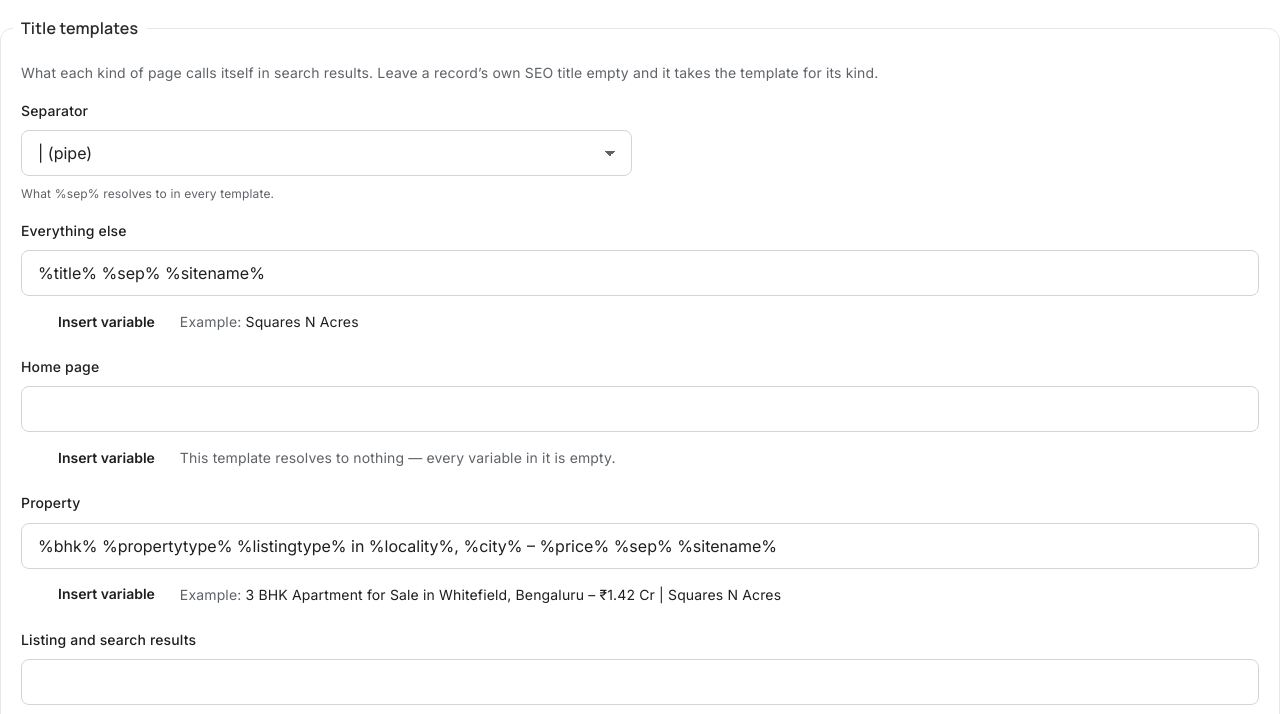
it: the property title template › removes an unresolved variable and the punctuation it leaves behind (§9.5)
Expected: the text "3 BHK Apartment for Sale in Whitefield" is shown, [246, 586, 781, 602]
Replace the text in the field labelled "Property" with "%bhk% in %locality%, %developer%" at (640, 546), box [21, 523, 1259, 569]
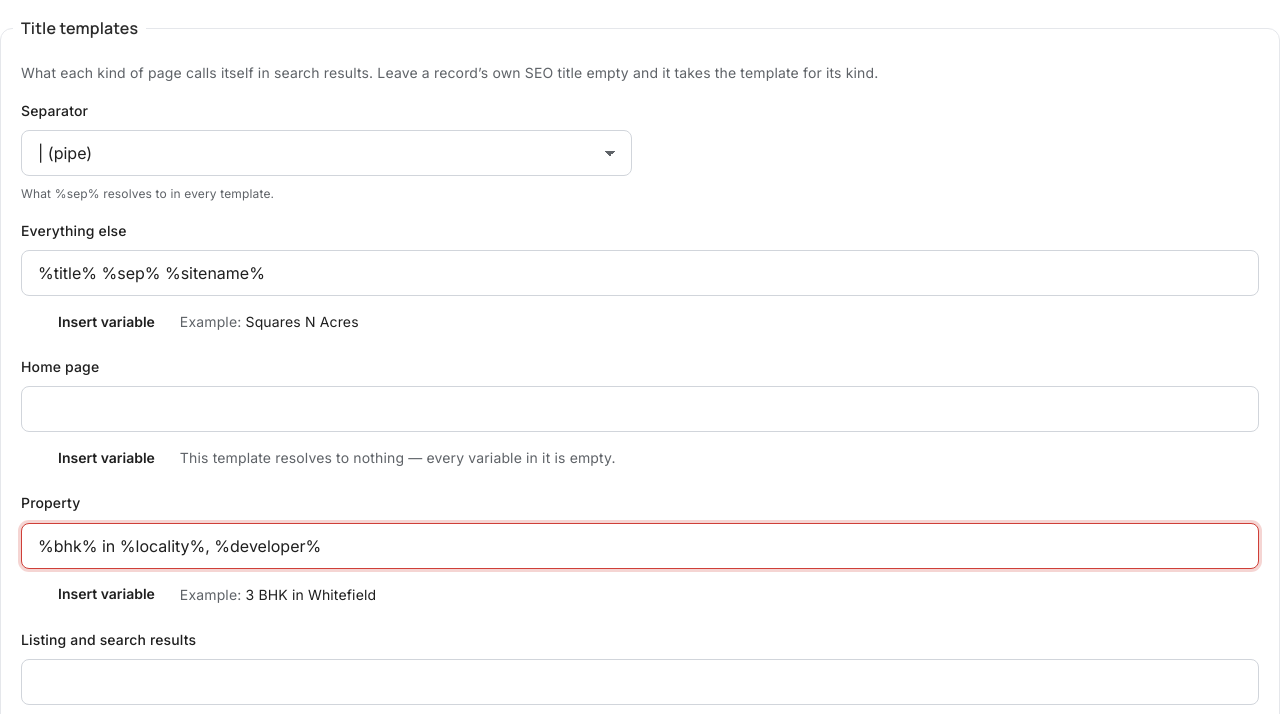
Result: the text "3 BHK in Whitefield" is shown at [246, 586, 376, 602]
